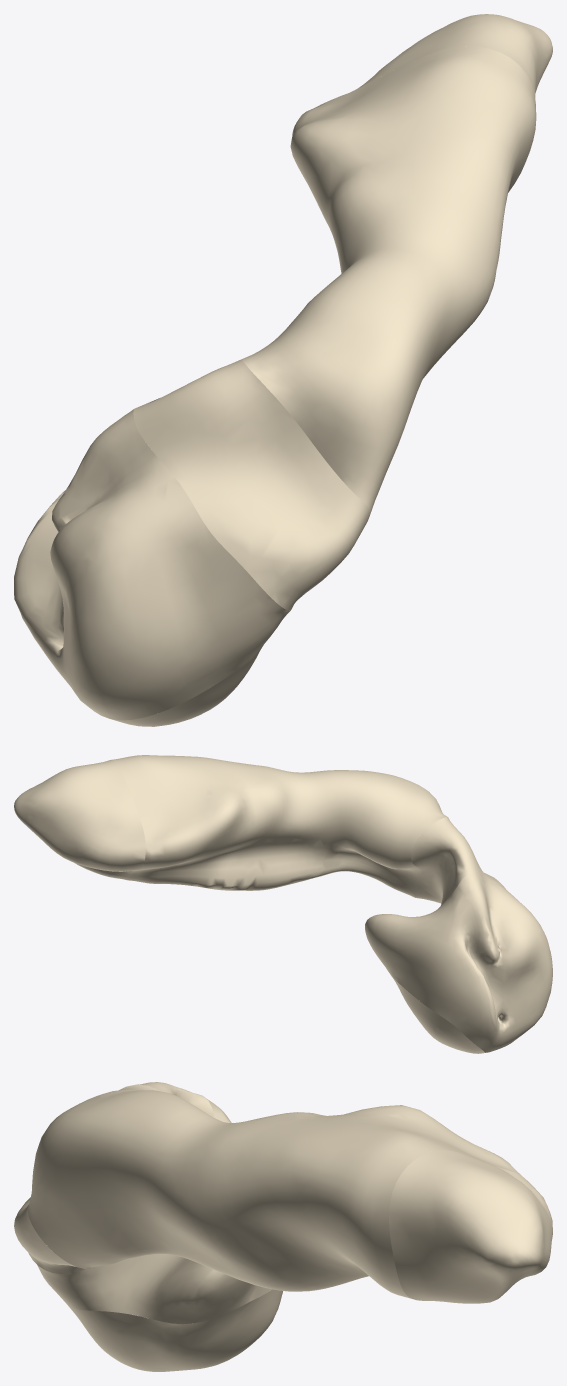
Rendered from vh_m_pancreas-80.glb.
3 views of the same model, one above another, from view 1: azimuth 30°, elevation 25°; view 2: azimuth 150°, elevation 25°; view 3: azimuth 270°, elevation 25° (orthographic). The views are drawn at different scales.
Visible parts, largest first — view 1: VH_M_body_of_pancreas, VH_M_head_of_pancreas, VH_M_neck_of_pancreas, VH_M_tail_of_pancreas, VH_M_uncinate_process_of_the_pancreas; view 2: VH_M_body_of_pancreas, VH_M_head_of_pancreas, VH_M_tail_of_pancreas, VH_M_neck_of_pancreas, VH_M_uncinate_process_of_the_pancreas; view 3: VH_M_body_of_pancreas, VH_M_tail_of_pancreas, VH_M_head_of_pancreas, VH_M_uncinate_process_of_the_pancreas, VH_M_neck_of_pancreas.
Part boxes in pixels (<box>): VH_M_body_of_pancreas: <box>241,46,536,516</box>; VH_M_head_of_pancreas: <box>14,409,290,720</box>; VH_M_neck_of_pancreas: <box>133,359,369,610</box>; VH_M_tail_of_pancreas: <box>334,14,552,98</box>; VH_M_uncinate_process_of_the_pancreas: <box>111,646,262,726</box>; VH_M_body_of_pancreas: <box>112,755,447,897</box>; VH_M_head_of_pancreas: <box>365,875,552,1052</box>; VH_M_tail_of_pancreas: <box>14,759,145,879</box>; VH_M_neck_of_pancreas: <box>411,817,502,905</box>; VH_M_uncinate_process_of_the_pancreas: <box>391,976,485,1053</box>; VH_M_body_of_pancreas: <box>28,1084,520,1298</box>; VH_M_tail_of_pancreas: <box>389,1150,552,1303</box>; VH_M_head_of_pancreas: <box>37,1097,271,1324</box>; VH_M_uncinate_process_of_the_pancreas: <box>69,1289,282,1371</box>; VH_M_neck_of_pancreas: <box>14,1082,213,1274</box>.
Size of the model in its own units: 0.1115 by 0.072 by 0.0836.
